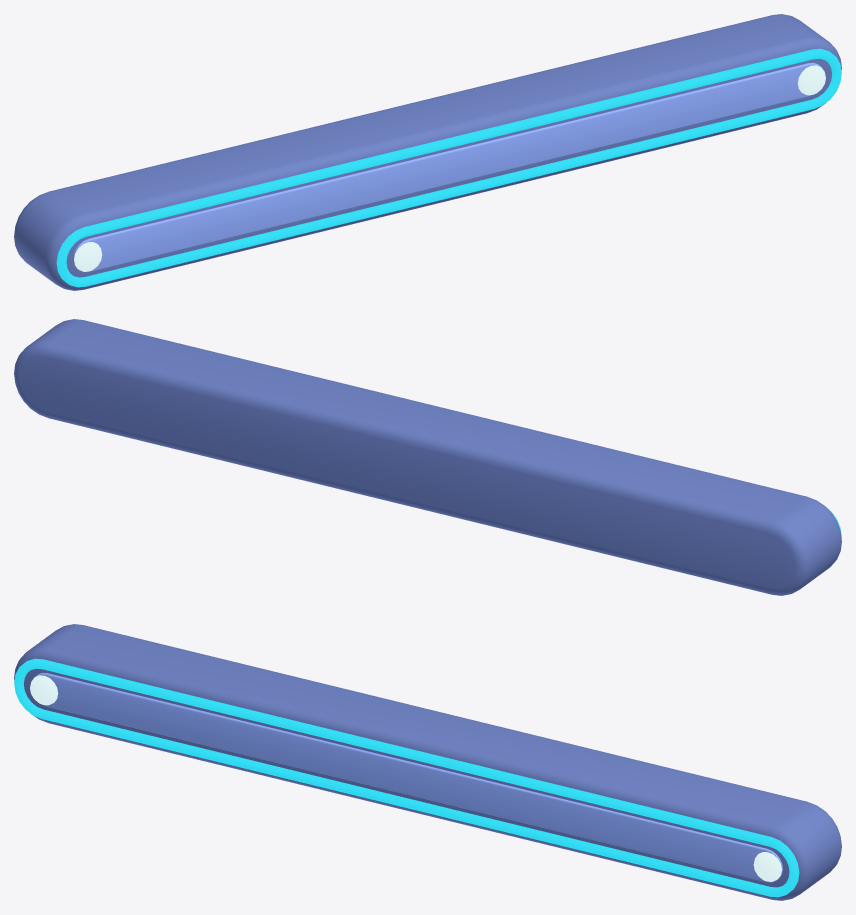
File: paddle_lett_400.glb
The picture shows the model from 3 angles, top to bottom: view 1: azimuth 30°, elevation 25°; view 2: azimuth 150°, elevation 25°; view 3: azimuth 330°, elevation 25°; orthographic projection.
Visible parts, largest first — view 1: paddle_lett; view 2: paddle_lett; view 3: paddle_lett.
Boxes of the visible parts, x1,y1,x2,y2 form: paddle_lett: (14, 14, 841, 290); paddle_lett: (14, 319, 841, 595); paddle_lett: (14, 624, 841, 900).
Size of the model in its own units: 4 by 0.36 by 0.405.
